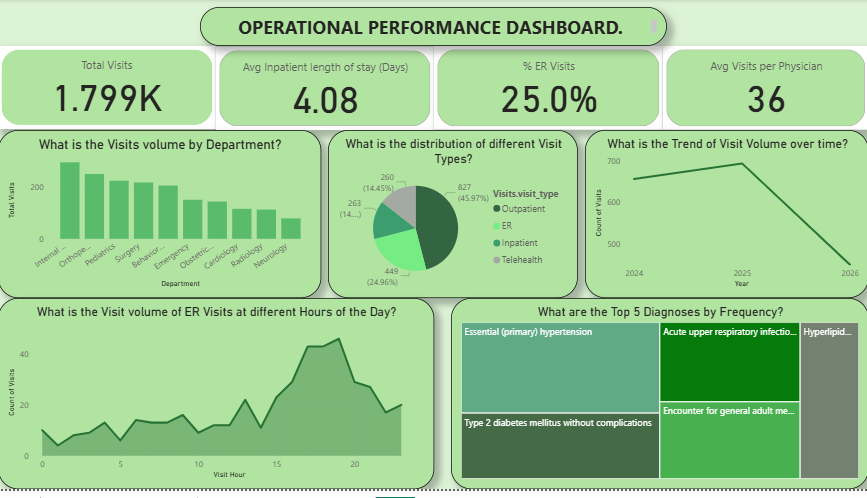

What the dashboard file says about the page in this screenshot:
{"tool":"powerbi","page":{"name":"Operational Performance","canvas":[1280,720],"ordinal":1},"visuals":[{"type":"cardVisual","fields":{"Data":["CountNonNull((Billing, Visits, Patients).visit_id)"]},"box":[0,69.1,320.3,122],"z":0},{"type":"cardVisual","fields":{"Data":["Avg((Billing, Visits, Patients).Visits.length_of_stay_days)"]},"box":[320.3,70.5,320.3,122],"z":1},{"type":"cardVisual","fields":{"Data":["(Billing, Visits, Patients).% ER Visits"]},"box":[640.7,69.1,336.5,123.4],"z":2},{"type":"cardVisual","fields":{"Data":["(Billing, Visits, Patients).Avg Visits per Physician"]},"box":[977.1,69.1,302.7,123.4],"z":3},{"type":"textbox","box":[296.8,11.8,686.2,57.3],"z":4},{"type":"columnChart","title":"What is the Visits volume by Department?","fields":{"Category":["(Billing, Visits, Patients).Visits.department"],"Y":["CountNonNull((Billing, Visits, Patients).Visits.visit_id)"]},"box":[0,192.5,474.6,246.9],"z":5},{"type":"pieChart","title":"What is the distribution of different  Visit Types?","fields":{"Category":["(Billing, Visits, Patients).Visits.visit_type"],"Y":["CountNonNull((Billing, Visits, Patients).Visits.visit_type)"]},"box":[484.9,192.5,367.3,246.9],"z":6},{"type":"areaChart","title":"What is the Visit volume of ER Visits at different Hours of the Day?","fields":{"Y":["CountNonNull((Billing, Visits, Patients).Visits.visit_type)"],"Category":["(Billing, Visits, Patients).Visits.visit_hour"]},"box":[0,439.3,640.7,280.7],"z":7},{"type":"lineChart","title":"What is the Trend of Visit Volume over time?","fields":{"Y":["CountNonNull((Billing, Visits, Patients).Visits.visit_id)"],"Category":["(Billing, Visits, Patients).Visits.visit_date.Variation.Date Hierarchy.Year"]},"box":[862.5,192.5,417.3,246.9],"z":8},{"type":"treemap","title":"What are the Top 5 Diagnoses by Frequency?","fields":{"Group":["Diagnoses.diagnosis_description"],"Values":["CountNonNull(Diagnoses.diagnosis_description)"]},"box":[665.6,439.3,614.2,280.7],"z":9}]}

Visuals, with their boxes in screenshot pixels (x1, y1, x2, y2), scaled from the page's 1280x720 canvas onto the 867x498 screenshot:
cardVisual - CountNonNull((Billing, Visits, Patients).visit_id): 0, 48, 217, 132
cardVisual - Avg((Billing, Visits, Patients).Visits.length_of_stay_days): 217, 49, 434, 133
cardVisual - (Billing, Visits, Patients).% ER Visits: 434, 48, 662, 133
cardVisual - (Billing, Visits, Patients).Avg Visits per Physician: 662, 48, 866, 133
textbox: 201, 8, 666, 48
"What is the Visits volume by Department?" columnChart: 0, 133, 321, 304
"What is the distribution of different  Visit Types?" pieChart: 328, 133, 577, 304
"What is the Visit volume of ER Visits at different Hours of the Day?" areaChart: 0, 304, 434, 497
"What is the Trend of Visit Volume over time?" lineChart: 584, 133, 866, 304
"What are the Top 5 Diagnoses by Frequency?" treemap: 451, 304, 866, 497
